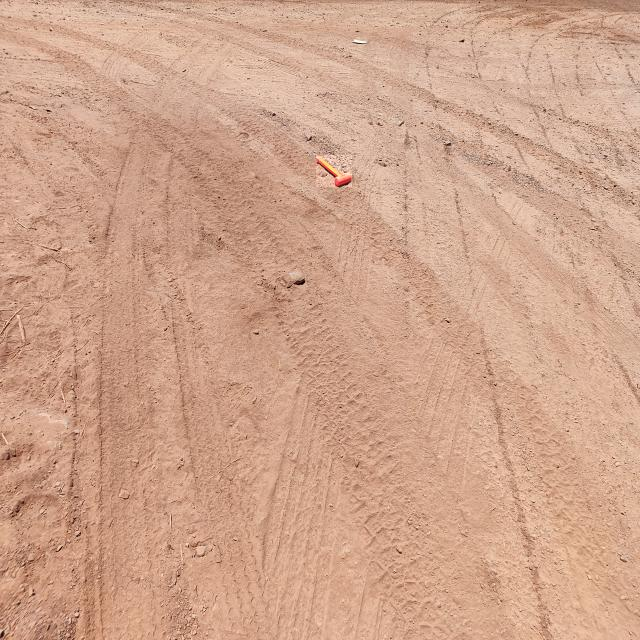Orange_hammer: (316, 155, 352, 187)
